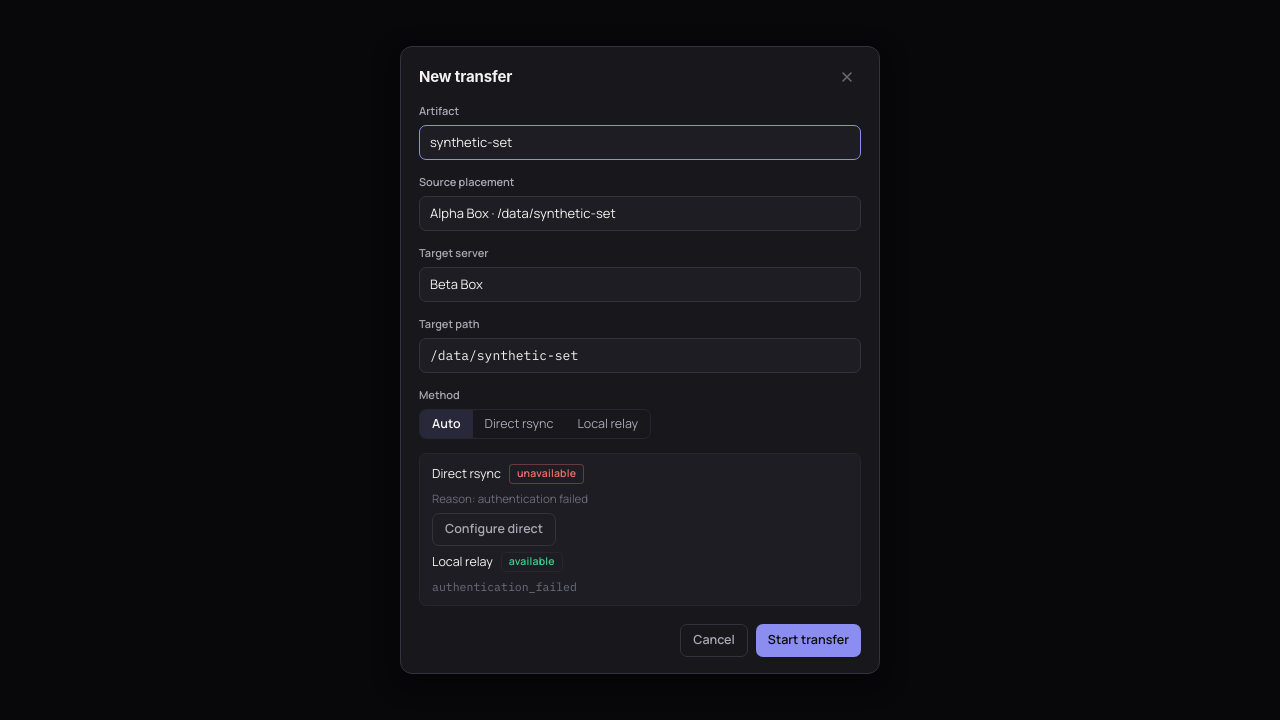
Test: transfer dialog: unavailable direct rsync › opens the setup dialog for the current source → target pair only on click
This screenshot has width=1280, height=720.
Expected: the text "Reason: authentication failed" is shown, [432,491,588,506]
Click the button "Configure direct" at x=494, y=530, box [432,513,556,546]
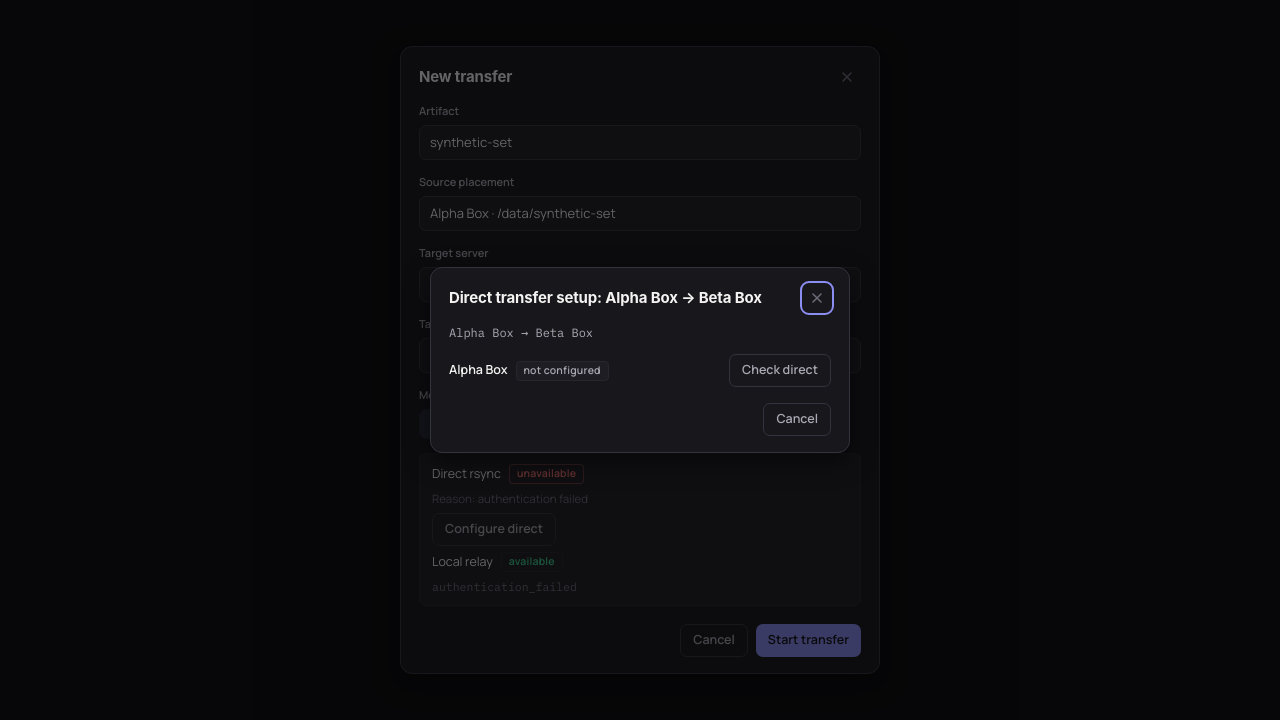
Now the heading "Direct transfer setup: Alpha Box → Beta Box" is shown, box [449,287,762,310]
Now the button "Check direct" is shown, box [729,354,831,387]
